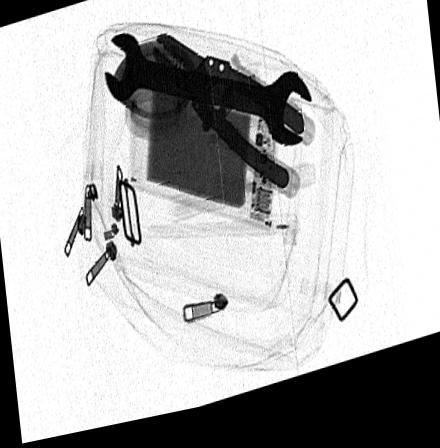Pliers: (153, 37, 309, 204)
Powerbank: (127, 72, 283, 244)
Wrench: (105, 35, 312, 158)
